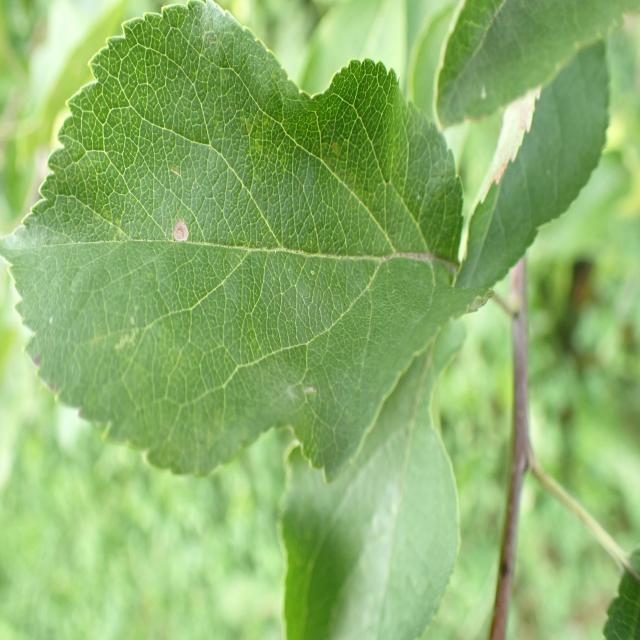frog-eye-leaf-spot: (0, 1, 487, 485)
